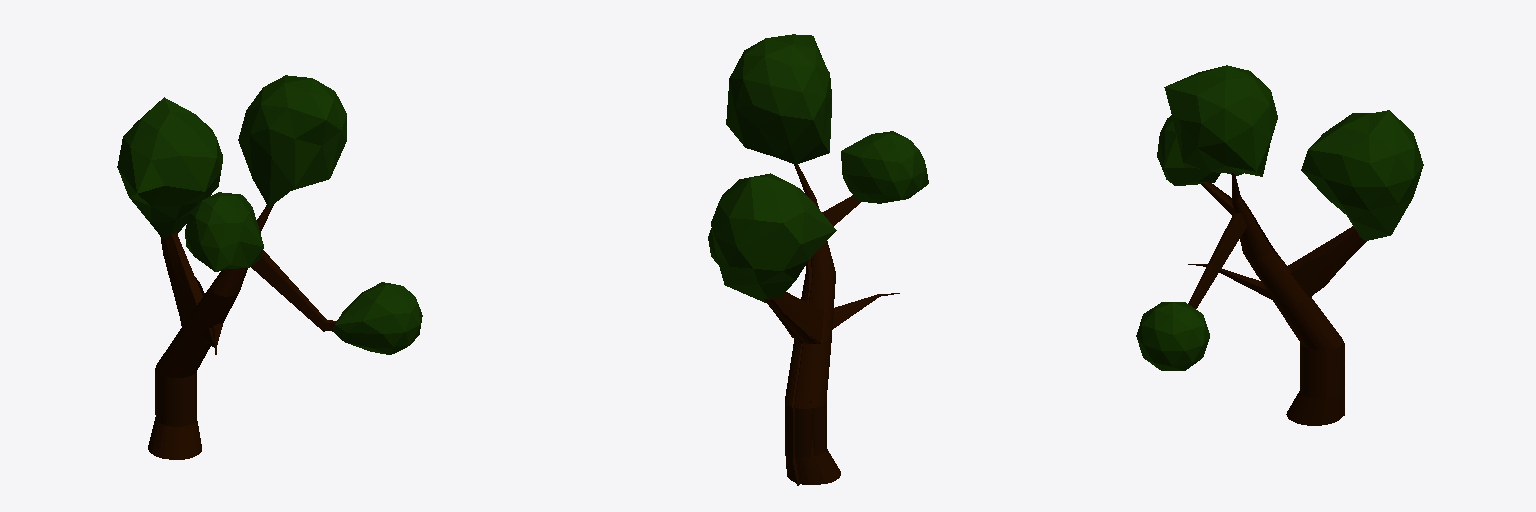
File: groeneboom.obj
3 renders of one model, left to right at view 1: azimuth 30°, elevation 25°; view 2: azimuth 150°, elevation 25°; view 3: azimuth 270°, elevation 25°, orthographic.
Visible parts, largest first — view 1: Icosphere, Cylinder; view 2: Icosphere, Cylinder; view 3: Icosphere, Cylinder.
Boxes of the visible parts, x1,y1,x2,y2 form: Icosphere: [117, 75, 422, 354]; Cylinder: [148, 204, 336, 459]; Icosphere: [708, 34, 928, 302]; Cylinder: [764, 164, 899, 485]; Icosphere: [1136, 65, 1423, 370]; Cylinder: [1188, 173, 1366, 425].
Size of the model in its own units: 6.69 by 11.38 by 7.75.